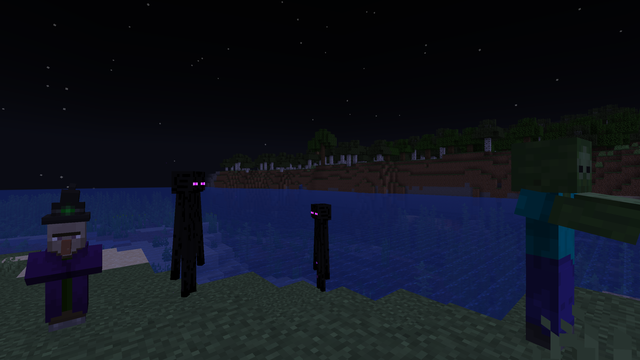endermens: (171, 166, 205, 301), (308, 200, 333, 292)
sorcieres: (40, 213, 90, 338)
zombies: (506, 141, 595, 358)
